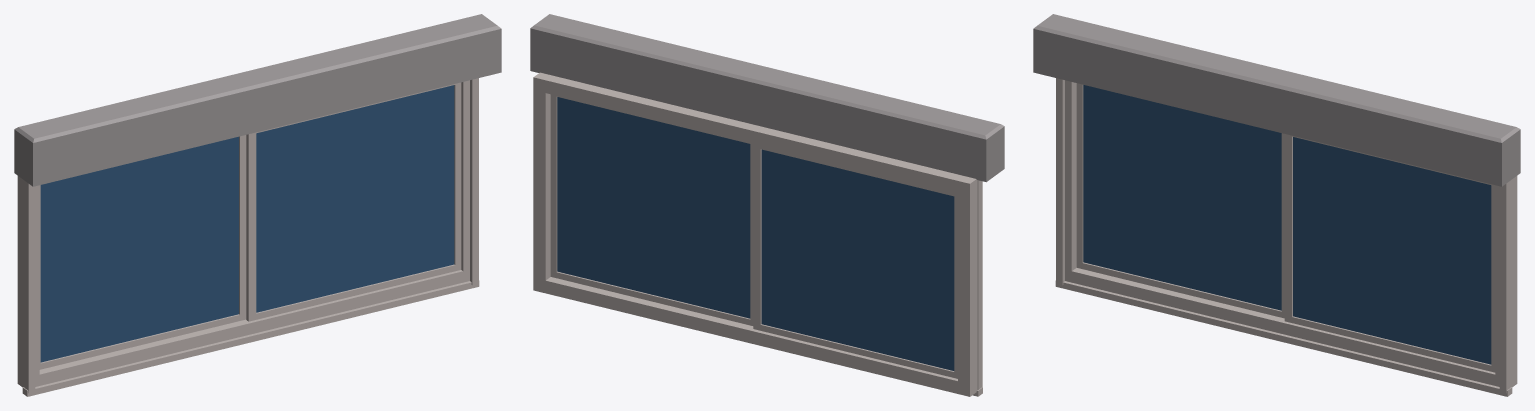
Rendered from SM_Opening_Window25611_Shutter_01.gltf.
3 views of the same model, side by side, from view 1: azimuth 30°, elevation 25°; view 2: azimuth 150°, elevation 25°; view 3: azimuth 330°, elevation 25° (orthographic). The views are drawn at different scales.
Parts seen in each view (by area): view 1: SM_Opening_Window25611_Shutter_01; view 2: SM_Opening_Window25611_Shutter_01; view 3: SM_Opening_Window25611_Shutter_01.
Part boxes in pixels (bbox=[...]): SM_Opening_Window25611_Shutter_01: bbox=[14, 14, 501, 396]; SM_Opening_Window25611_Shutter_01: bbox=[530, 14, 1004, 396]; SM_Opening_Window25611_Shutter_01: bbox=[1033, 14, 1520, 396].
Size of the model in its own units: 2.8 by 1.54 by 0.265.
Materials: 1 (1 with a texture image).
